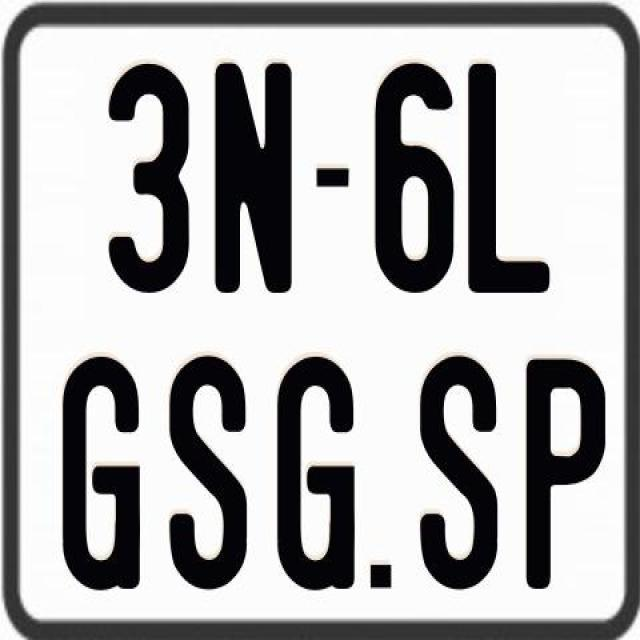3: (106, 59, 192, 290)
6: (374, 62, 458, 301)
G: (273, 352, 359, 589), (60, 354, 143, 590)
L: (464, 59, 547, 290)
N: (214, 59, 294, 291)
P: (525, 358, 611, 597)
S: (420, 356, 506, 588), (168, 355, 251, 592)
